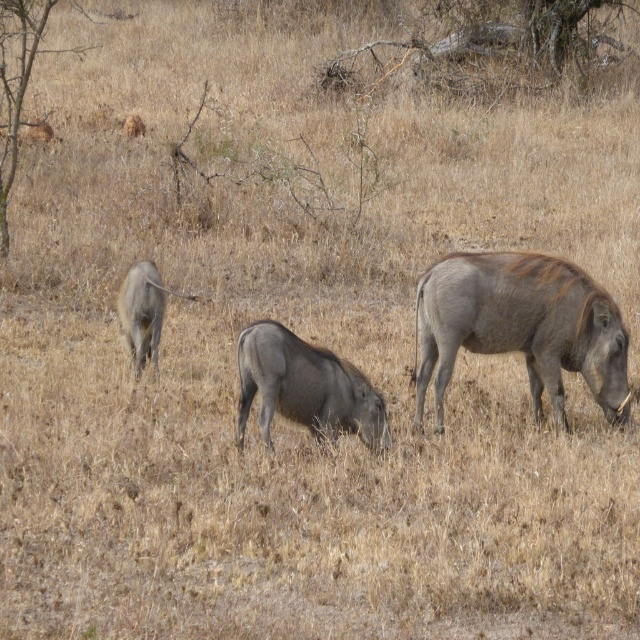Pig: (408, 250, 637, 444), (235, 318, 392, 472), (117, 260, 202, 387)
